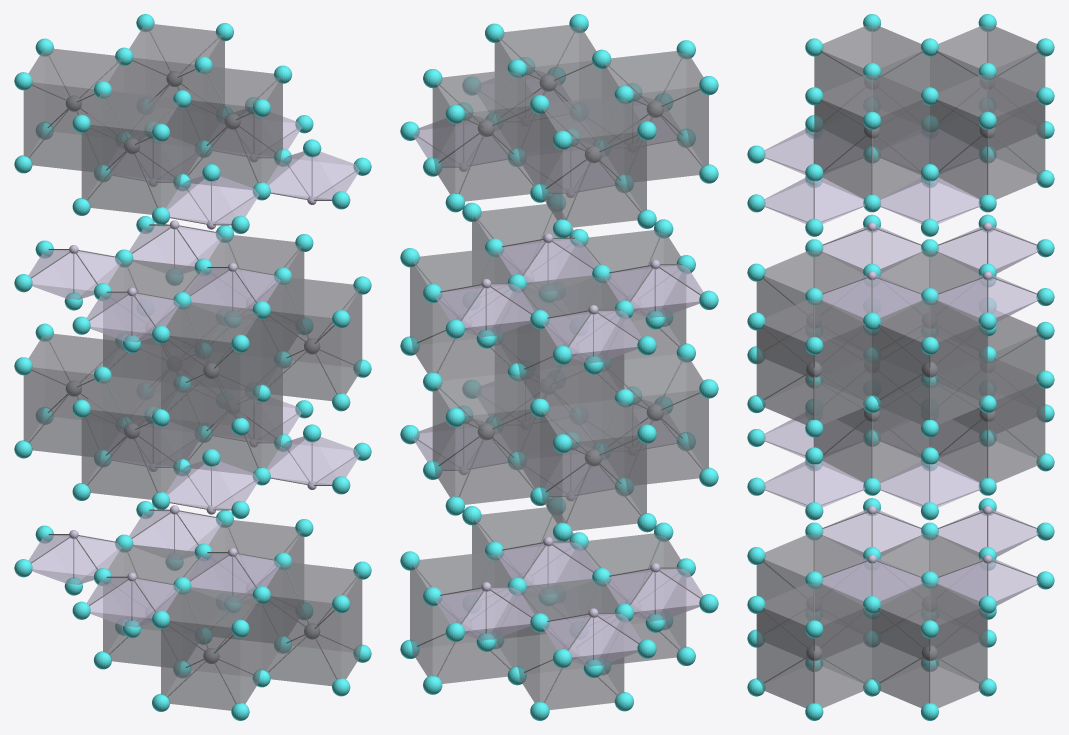
File: t-PbSnF4.fbx
3 renders of one model, left to right at view 1: azimuth 30°, elevation 25°; view 2: azimuth 150°, elevation 25°; view 3: azimuth 270°, elevation 25°, orthographic. The views are drawn at different scales.
Visible parts, largest first — view 1: Shape_IndexedFaceSet.053, Shape_IndexedFaceSet.059, Shape_IndexedFaceSet.083, Shape_IndexedFaceSet.035, Shape_IndexedFaceSet.077, Shape_IndexedFaceSet.029, Shape_IndexedFaceSet.011, Shape_IndexedFaceSet.078, Shape_IndexedFaceSet.072, Shape_IndexedFaceSet.054, Shape_IndexedFaceSet.048, Shape_IndexedFaceSet.006 (+111 smaller); view 2: Shape_IndexedFaceSet.022, Shape_IndexedFaceSet.040, Shape_IndexedFaceSet.016, Shape_IndexedFaceSet.046, Shape_IndexedFaceSet.013, Shape_IndexedFaceSet.037, Shape_IndexedFaceSet.019, Shape_IndexedFaceSet.043, Shape_IndexedFaceSet.034, Shape_IndexedFaceSet.028, Shape_IndexedFaceSet.031, Shape_IndexedFaceSet.067 (+102 smaller); view 3: Shape_IndexedFaceSet.018, Shape_IndexedFaceSet.049, Shape_IndexedFaceSet.055, Shape_IndexedFaceSet.012, Shape_IndexedFaceSet.061, Shape_IndexedFaceSet.048, Shape_IndexedFaceSet.067, Shape_IndexedFaceSet.060, Shape_IndexedFaceSet.066, Shape_IndexedFaceSet.054, Shape_IndexedFaceSet.007, Shape_IndexedFaceSet.019 (+114 smaller).
Boxes of the visible parts, bbox=[...] form: Shape_IndexedFaceSet.053: bbox=[261, 596, 341, 686]; Shape_IndexedFaceSet.059: bbox=[261, 311, 341, 400]; Shape_IndexedFaceSet.083: bbox=[161, 335, 240, 425]; Shape_IndexedFaceSet.035: bbox=[81, 125, 160, 214]; Shape_IndexedFaceSet.077: bbox=[161, 621, 240, 710]; Shape_IndexedFaceSet.029: bbox=[81, 410, 160, 499]; Shape_IndexedFaceSet.011: bbox=[182, 100, 261, 187]; Shape_IndexedFaceSet.078: bbox=[182, 302, 261, 391]; Shape_IndexedFaceSet.072: bbox=[182, 587, 261, 676]; Shape_IndexedFaceSet.054: bbox=[283, 278, 361, 367]; Shape_IndexedFaceSet.048: bbox=[283, 563, 361, 652]; Shape_IndexedFaceSet.006: bbox=[204, 67, 282, 156]; Shape_IndexedFaceSet.022: bbox=[455, 106, 539, 201]; Shape_IndexedFaceSet.040: bbox=[562, 435, 646, 530]; Shape_IndexedFaceSet.016: bbox=[455, 409, 539, 504]; Shape_IndexedFaceSet.046: bbox=[562, 132, 646, 227]; Shape_IndexedFaceSet.013: bbox=[433, 373, 516, 468]; Shape_IndexedFaceSet.037: bbox=[540, 400, 623, 494]; Shape_IndexedFaceSet.019: bbox=[433, 70, 516, 165]; Shape_IndexedFaceSet.043: bbox=[540, 96, 623, 191]; Shape_IndexedFaceSet.034: bbox=[629, 86, 708, 180]; Shape_IndexedFaceSet.028: bbox=[630, 390, 708, 484]; Shape_IndexedFaceSet.031: bbox=[602, 51, 685, 142]; Shape_IndexedFaceSet.067: bbox=[410, 249, 494, 344]; Shape_IndexedFaceSet.018: bbox=[987, 99, 1045, 199]; Shape_IndexedFaceSet.049: bbox=[756, 608, 814, 707]; Shape_IndexedFaceSet.055: bbox=[756, 324, 814, 424]; Shape_IndexedFaceSet.012: bbox=[987, 382, 1045, 482]; Shape_IndexedFaceSet.061: bbox=[872, 608, 929, 707]; Shape_IndexedFaceSet.048: bbox=[814, 608, 871, 707]; Shape_IndexedFaceSet.067: bbox=[872, 324, 929, 424]; Shape_IndexedFaceSet.060: bbox=[930, 608, 987, 707]; Shape_IndexedFaceSet.066: bbox=[930, 324, 987, 424]; Shape_IndexedFaceSet.054: bbox=[814, 324, 871, 424]; Shape_IndexedFaceSet.007: bbox=[814, 99, 871, 198]; Shape_IndexedFaceSet.019: bbox=[930, 99, 987, 198].
Bounding box in the file's own units: 1126 × 2358 × 1126.
